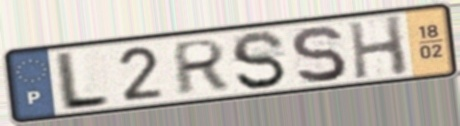2: (116, 44, 168, 104)
H: (345, 13, 412, 81)
L: (55, 48, 113, 113)
R: (172, 36, 230, 99)
S: (228, 29, 290, 92), (287, 24, 350, 86)
